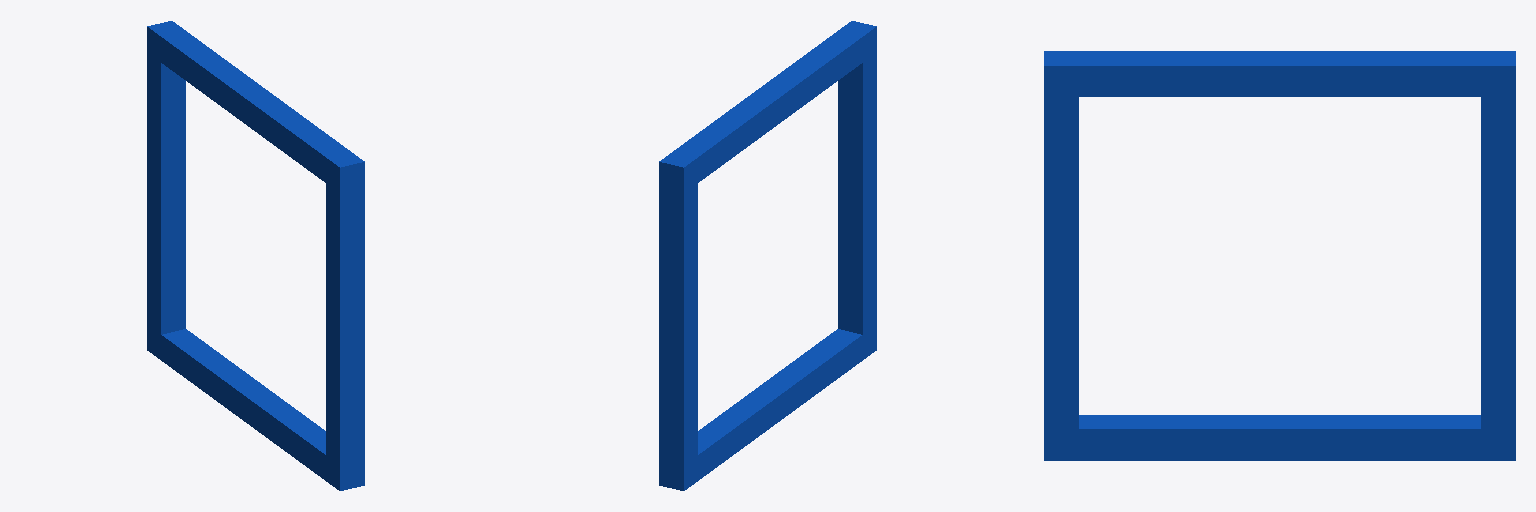
The robot description file, URDF, robot "gate_scale_068":
<?xml version="1.0" ?>
<robot name="gate_scale_068">
  <material name="gate_material">
    <color rgba="0.1 0.4 0.8 1.0"/>
  </material>
  <link name="base_link"/>
  <link name="left_post">
    <visual>
      <origin xyz="0.000 0.000 0.850" rpy="0 0 0"/>
      <geometry>
        <box size="0.136 0.136 1.700"/>
      </geometry>
      <material name="gate_material"/>
    </visual>
    <collision>
      <origin xyz="0.000 0.000 0.850" rpy="0 0 0"/>
      <geometry>
        <box size="0.136 0.136 1.700"/>
      </geometry>
    </collision>
    <inertial>
      <mass value="3.144"/>
      <inertia ixx="2.0" ixy="0.0" ixz="0.0" iyy="2.0" iyz="0.0" izz="2.0"/>
    </inertial>
  </link>
  <joint name="base_to_left_post" type="fixed">
    <parent link="base_link"/>
    <child link="left_post"/>
    <origin xyz="0.000 0.850 0.000" rpy="0 0 0"/>
  </joint>
  <link name="right_post">
    <visual>
      <origin xyz="0.000 0.000 0.850" rpy="0 0 0"/>
      <geometry>
        <box size="0.136 0.136 1.700"/>
      </geometry>
      <material name="gate_material"/>
    </visual>
    <collision>
      <origin xyz="0.000 0.000 0.850" rpy="0 0 0"/>
      <geometry>
        <box size="0.136 0.136 1.700"/>
      </geometry>
    </collision>
    <inertial>
      <mass value="3.144"/>
      <inertia ixx="2.0" ixy="0.0" ixz="0.0" iyy="2.0" iyz="0.0" izz="2.0"/>
    </inertial>
  </link>
  <joint name="base_to_right_post" type="fixed">
    <parent link="base_link"/>
    <child link="right_post"/>
    <origin xyz="0.000 -0.850 0.000" rpy="0 0 0"/>
  </joint>
  <link name="top_bar">
    <visual>
      <origin xyz="0.000 0.000 0.000" rpy="0 0 0"/>
      <geometry>
        <box size="0.136 1.836 0.136"/>
      </geometry>
      <material name="gate_material"/>
    </visual>
    <collision>
      <origin xyz="0.000 0.000 0.000" rpy="0 0 0"/>
      <geometry>
        <box size="0.136 1.836 0.136"/>
      </geometry>
    </collision>
    <inertial>
      <mass value="3.144"/>
      <inertia ixx="2.0" ixy="0.0" ixz="0.0" iyy="2.0" iyz="0.0" izz="2.0"/>
    </inertial>
  </link>
  <joint name="base_to_top_bar" type="fixed">
    <parent link="base_link"/>
    <child link="top_bar"/>
    <origin xyz="0.000 0.000 1.632" rpy="0 0 0"/>
  </joint>
  <link name="bottom_bar">
    <visual>
      <origin xyz="0.000 0.000 0.000" rpy="0 0 0"/>
      <geometry>
        <box size="0.136 1.836 0.136"/>
      </geometry>
      <material name="gate_material"/>
    </visual>
    <collision>
      <origin xyz="0.000 0.000 0.000" rpy="0 0 0"/>
      <geometry>
        <box size="0.136 1.836 0.136"/>
      </geometry>
    </collision>
    <inertial>
      <mass value="3.144"/>
      <inertia ixx="2.0" ixy="0.0" ixz="0.0" iyy="2.0" iyz="0.0" izz="2.0"/>
    </inertial>
  </link>
  <joint name="base_to_bottom_bar" type="fixed">
    <parent link="base_link"/>
    <child link="bottom_bar"/>
    <origin xyz="0.000 0.000 0.068" rpy="0 0 0"/>
  </joint>
</robot>

--- Render facts (derived) ---
3 views of the same robot in one strip: view 1: azimuth 30°, elevation 25°; view 2: azimuth 150°, elevation 25°; view 3: azimuth 270°, elevation 25° (orthographic).
Robot: gate_scale_068 — 5 links, 4 joints (4 fixed); root link base_link; default pose: all joints at 0.
Visible links, largest first — view 1: right_post, left_post, top_bar, bottom_bar; view 2: left_post, right_post, top_bar, bottom_bar; view 3: bottom_bar, top_bar, left_post, right_post.
Link boxes in pixels (x1,y1,x2,y2): right_post: (326, 153, 364, 490); left_post: (147, 21, 185, 359); top_bar: (147, 21, 364, 193); bottom_bar: (147, 325, 363, 490); left_post: (659, 152, 697, 490); right_post: (838, 21, 876, 356); top_bar: (659, 21, 876, 193); bottom_bar: (659, 326, 876, 490); bottom_bar: (1044, 415, 1515, 460); top_bar: (1044, 51, 1515, 96); left_post: (1481, 51, 1515, 460); right_post: (1044, 51, 1078, 460).
Bounding box of the posed robot: 0.136 × 1.84 × 1.7 m (x, y, z).
Geometry: primitives only (box / cylinder / sphere), no mesh files.
